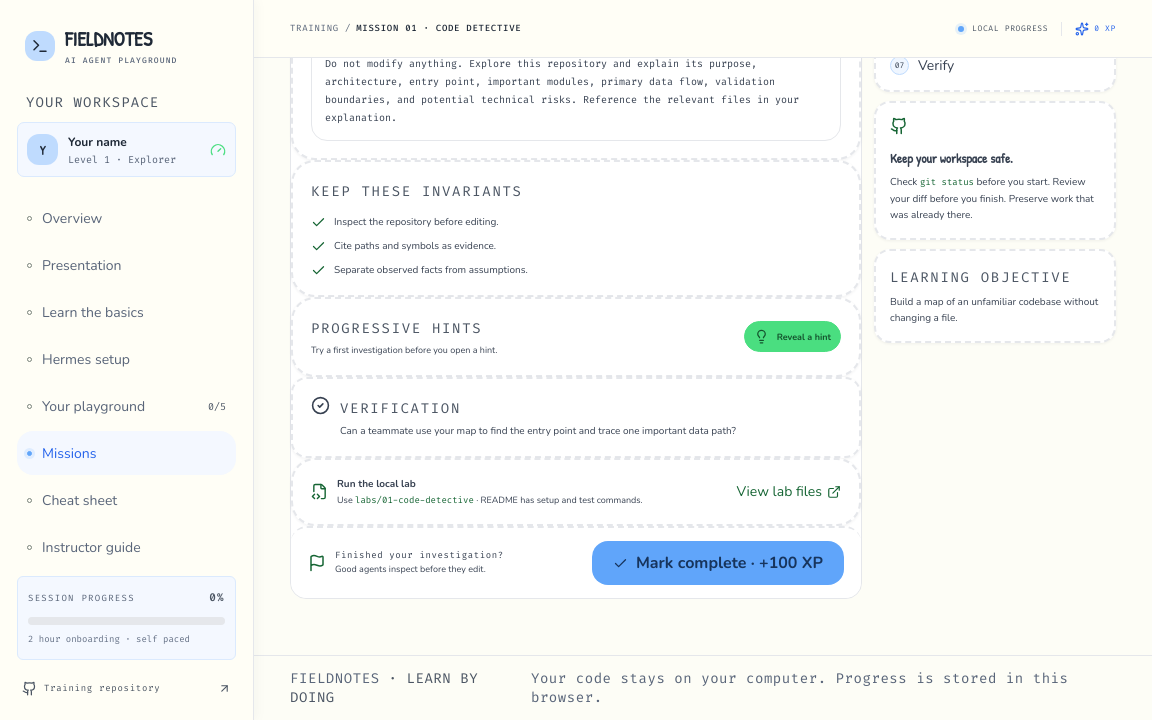
Test case: training interactions › awards mission XP once and shows completion feedback
(page scrolled)
Click the button "Mark complete · +100 XP": click(718, 563) [592,541,844,585]
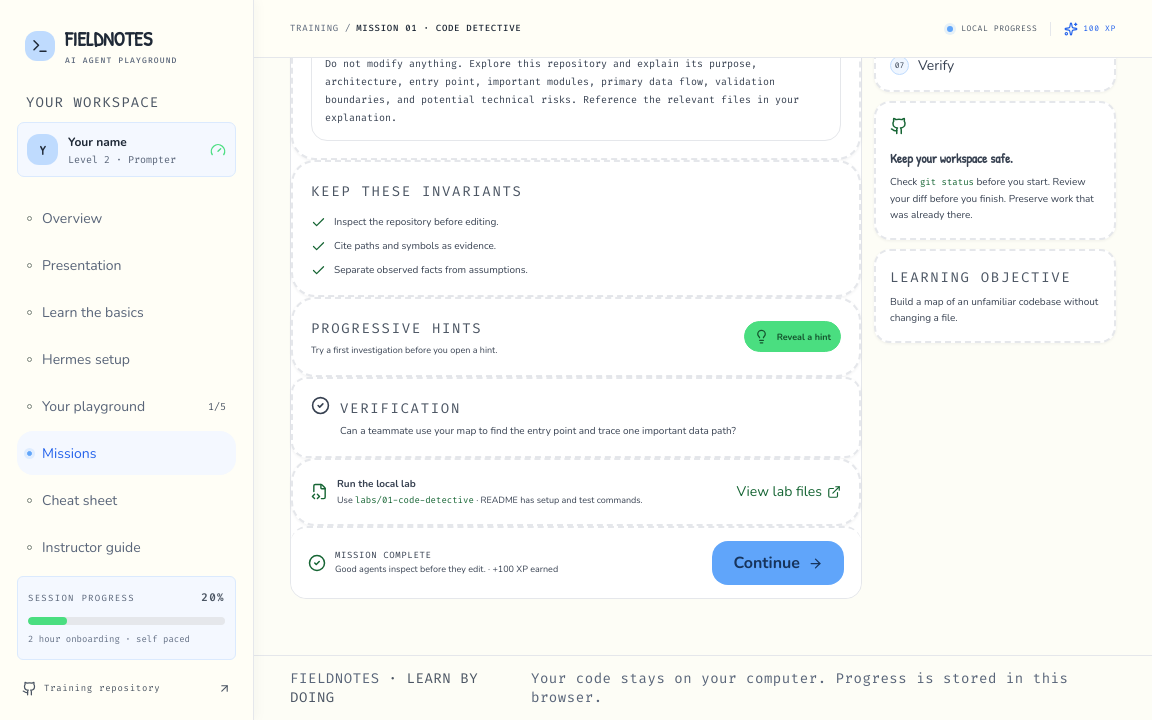
Expected: the text "MISSION COMPLETE" is shown, [335,549,432,561]
